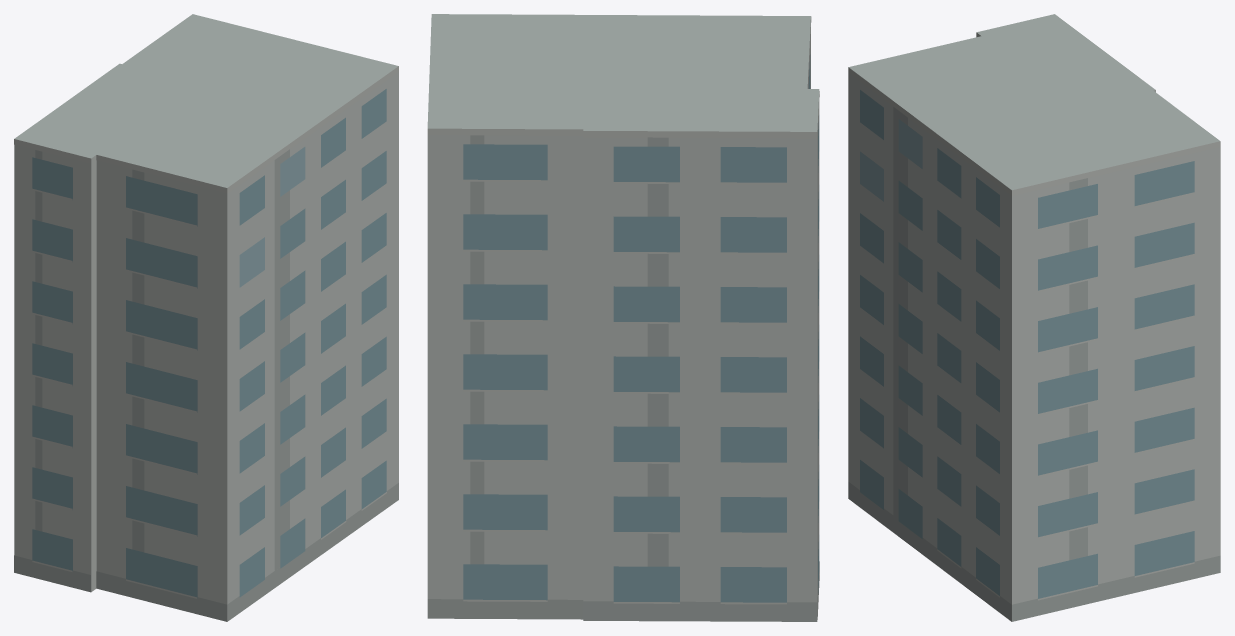
Rendered from survey-upis-32769788.glb.
The picture shows the model from 3 angles, left to right: view 1: azimuth 30°, elevation 25°; view 2: azimuth 150°, elevation 25°; view 3: azimuth 270°, elevation 25°; orthographic projection. The views are drawn at different scales.
Visible parts, largest first — view 1: survey-upis-32769788.tmp; view 2: survey-upis-32769788.tmp; view 3: survey-upis-32769788.tmp.
Part boxes in pixels (x1,y1,x2,y2): survey-upis-32769788.tmp: [14, 14, 398, 621]; survey-upis-32769788.tmp: [427, 14, 819, 621]; survey-upis-32769788.tmp: [848, 14, 1220, 621].
Size of the model in its own units: 16.52 by 18.85 by 14.74.
